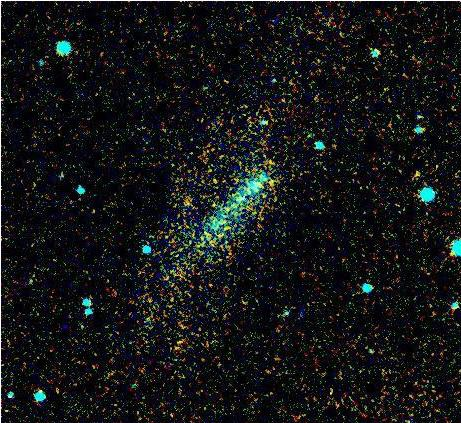star: (258, 172, 288, 202)
